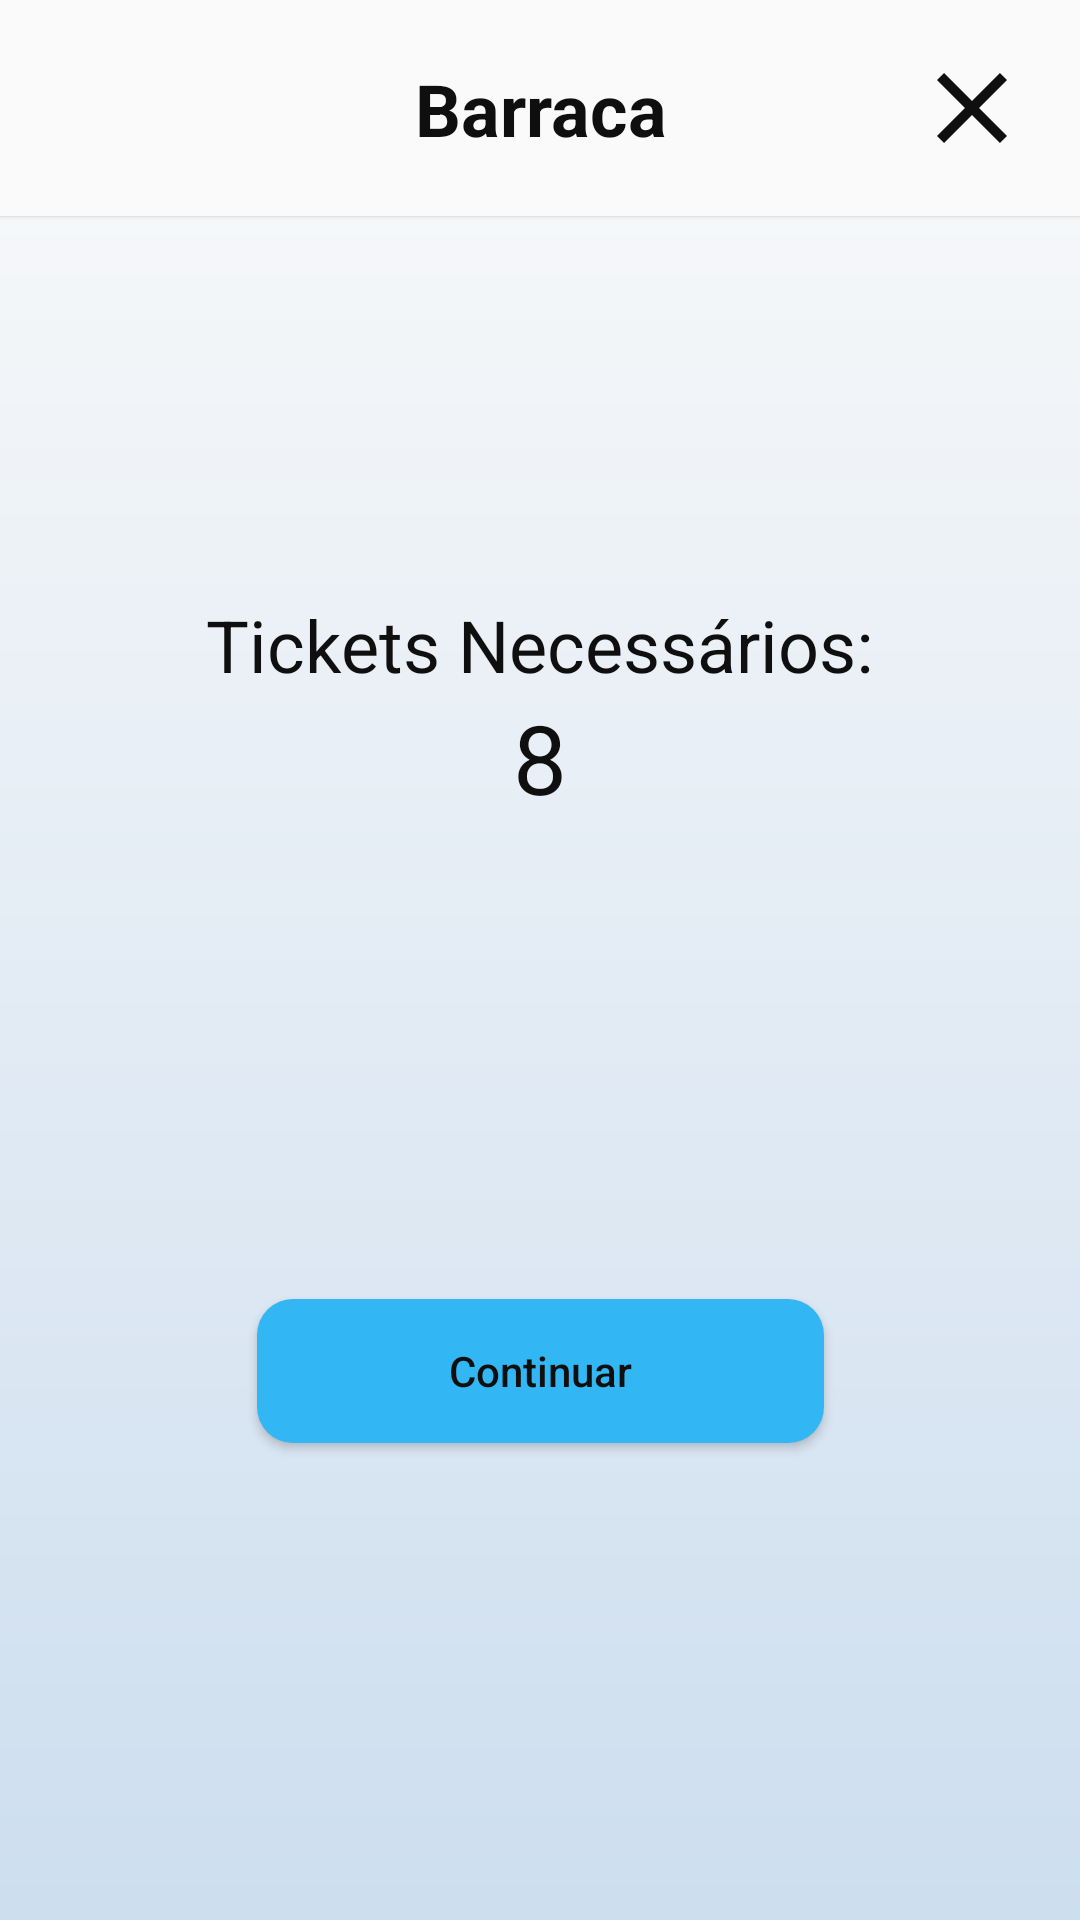

Screen size 1080 × 1920. Icon name, then its box in pixels as (x1, y1, x2, y2):
cancel: (937, 73, 1007, 143)
